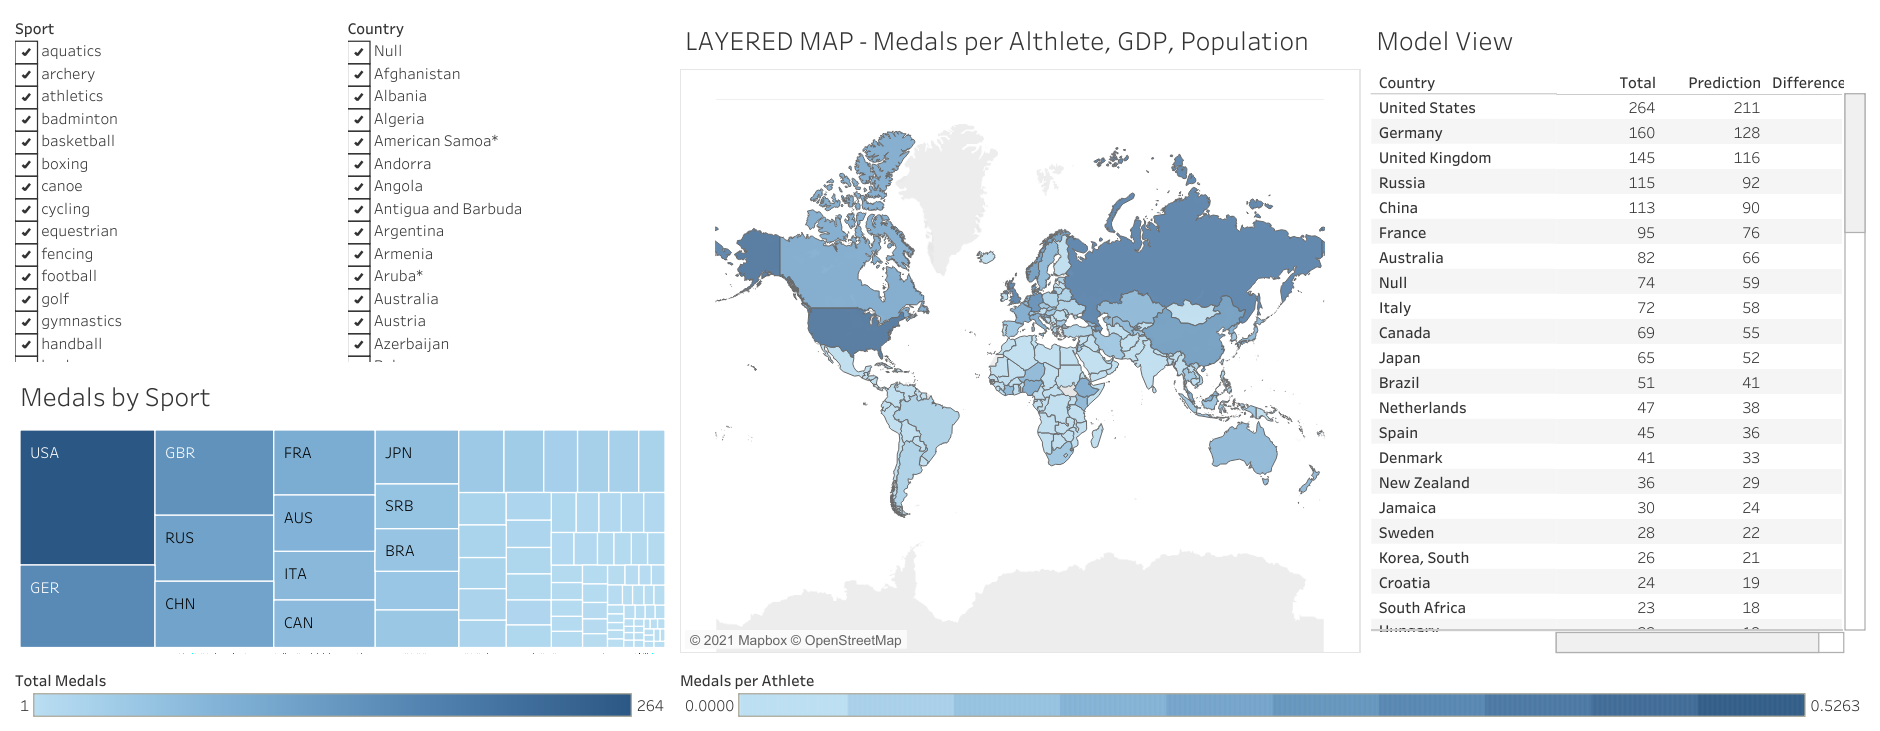

The page's visual inventory and layout, read from the dashboard file:
{"tool":"tableau","page":{"name":"Dashboard","canvas":[1000,1000],"units":"permille","ordinal":0},"visuals":[{"type":"filter","title":"Medals by Sport","param":"[federated.03uqshs1di27xi1a7a4pt091ctk2].[none:sport:nk]","box":[4.8,9.3,176.8,490.1]},{"type":"filter","title":"Medals by Sport","param":"[federated.03uqshs1di27xi1a7a4pt091ctk2].[none:country:nk]","box":[181.7,9.3,176.8,490.1]},{"type":"worksheet","title":"Athlete Data","mark":"Automatic","box":[358.5,9.3,368.1,894.3]},{"type":"worksheet","title":"Model View","mark":"Automatic","rows":["country"],"box":[726.6,9.3,268.6,894.3]},{"type":"worksheet","title":"Medals by Sport","mark":"Automatic","box":[4.8,499.4,353.7,404.2]},{"type":"legend","title":"Medals by Sport","param":"[federated.03uqshs1di27xi1a7a4pt091ctk2].[sum:Calculation_973340486191443968:qk]","box":[4.8,903.6,353.7,87.1]},{"type":"legend","title":"Athlete Data","param":"[federated.03uqshs1di27xi1a7a4pt091ctk2].[usr:Calculation_973340486197690374:qk]","box":[358.5,903.6,636.7,87.1]}]}

Visuals, with their boxes on the dashboard's canvas, which has no fixed pixel size, in thousandths of its width and height (x1, y1, x2, y2). These are canvas units, not pixel positions in the 1880x731 screenshot, which may show the page scaled, cropped or inside an application window:
"Medals by Sport" filter: rect(5, 9, 182, 499)
"Medals by Sport" filter: rect(182, 9, 358, 499)
"Athlete Data" worksheet: rect(358, 9, 727, 904)
"Model View" worksheet: rect(727, 9, 995, 904)
"Medals by Sport" worksheet: rect(5, 499, 358, 904)
"Medals by Sport" legend: rect(5, 904, 358, 991)
"Athlete Data" legend: rect(358, 904, 995, 991)
